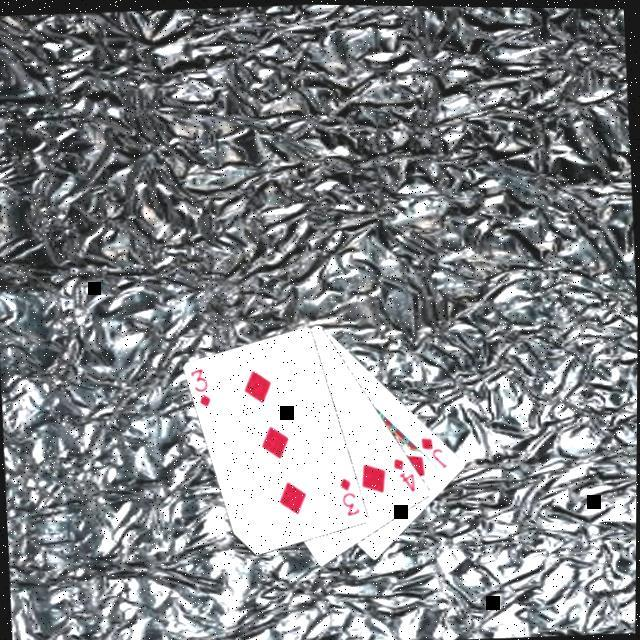3D: (338, 472, 366, 517), (189, 364, 215, 409)
4D: (392, 452, 421, 493)
JD: (418, 431, 452, 470)
